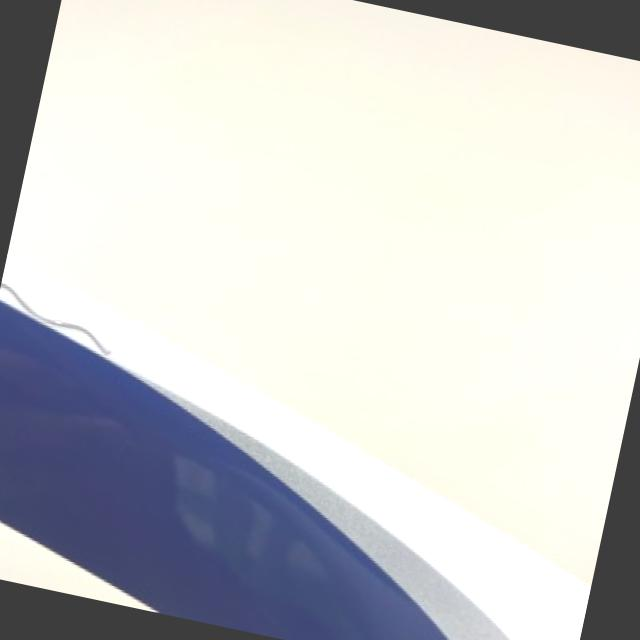healthy: (0, 254, 591, 640)
